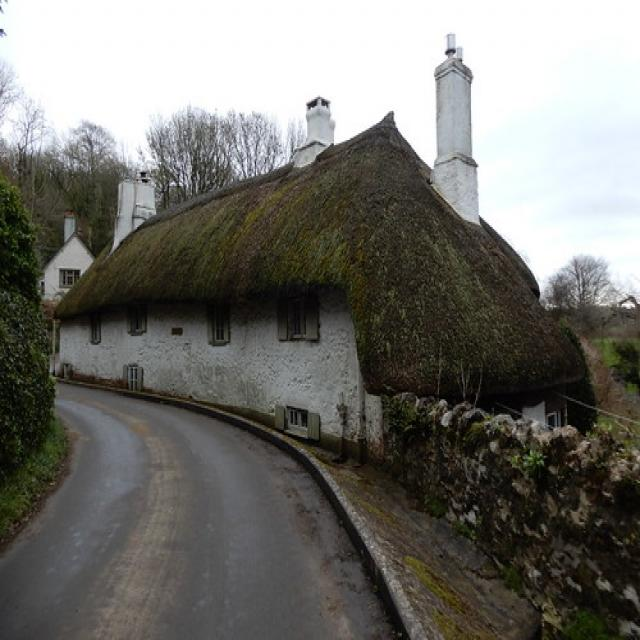Normal_building: (54, 119, 598, 462)
